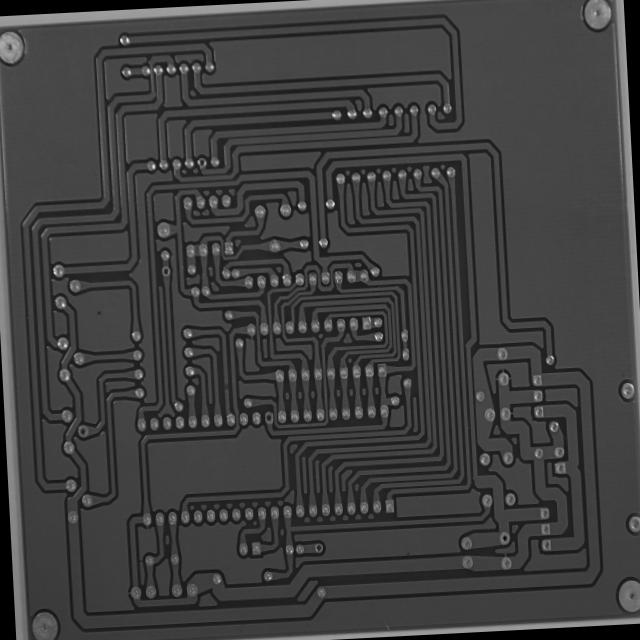missing_hole: (158, 262, 173, 278), (76, 422, 90, 439), (262, 410, 276, 426), (312, 540, 324, 556), (196, 155, 208, 170)
